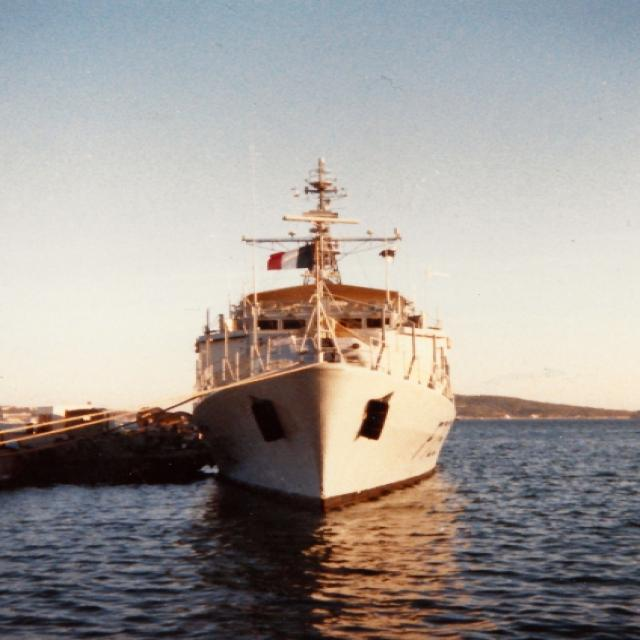Fragata: (178, 121, 457, 515)
